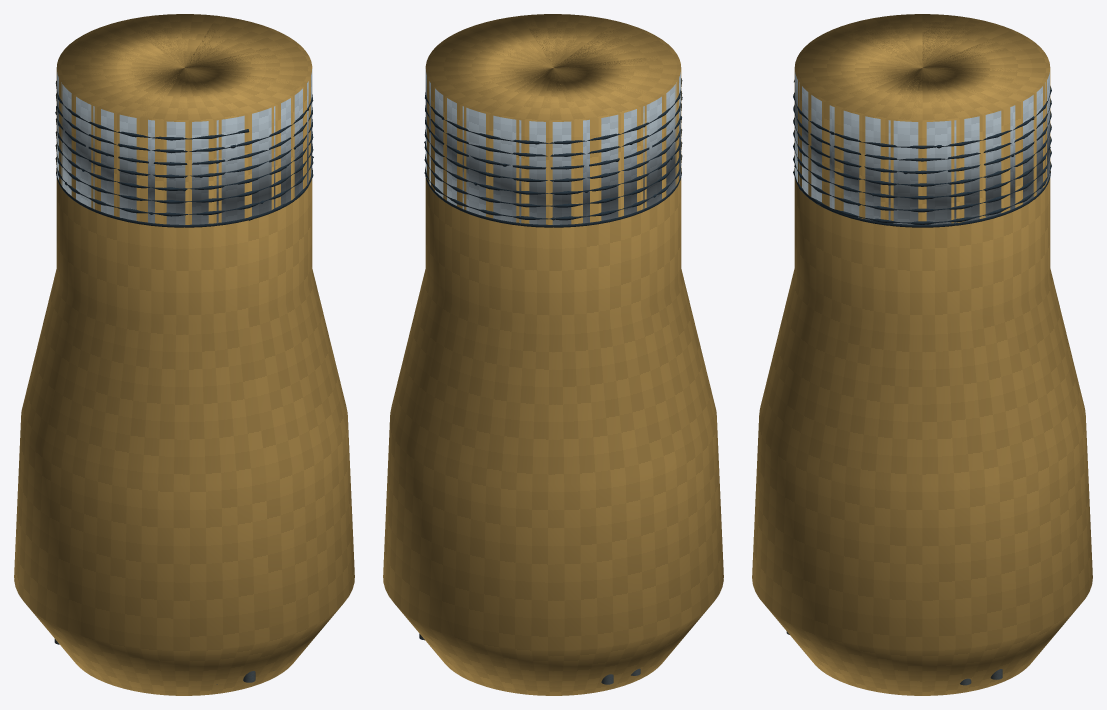
File: roller-bit.glb
The picture shows the model from 3 angles, left to right: view 1: azimuth 30°, elevation 25°; view 2: azimuth 150°, elevation 25°; view 3: azimuth 270°, elevation 25°; orthographic projection.
Visible parts, largest first — view 1: bit-body (×3), uphole-connection (×3); view 2: bit-body (×3), uphole-connection (×3); view 3: bit-body (×3), uphole-connection (×3).
Boxes of the visible parts, x1,y1,x2,y2 form: bit-body (×3): [14, 14, 354, 695]; uphole-connection (×3): [55, 69, 313, 227]; bit-body (×3): [383, 14, 723, 695]; uphole-connection (×3): [424, 69, 682, 227]; bit-body (×3): [752, 14, 1092, 695]; uphole-connection (×3): [793, 72, 1051, 227].
Size of the model in its own units: 0.1494 by 0.28 by 0.1494.
4 materials, 4 textured.
